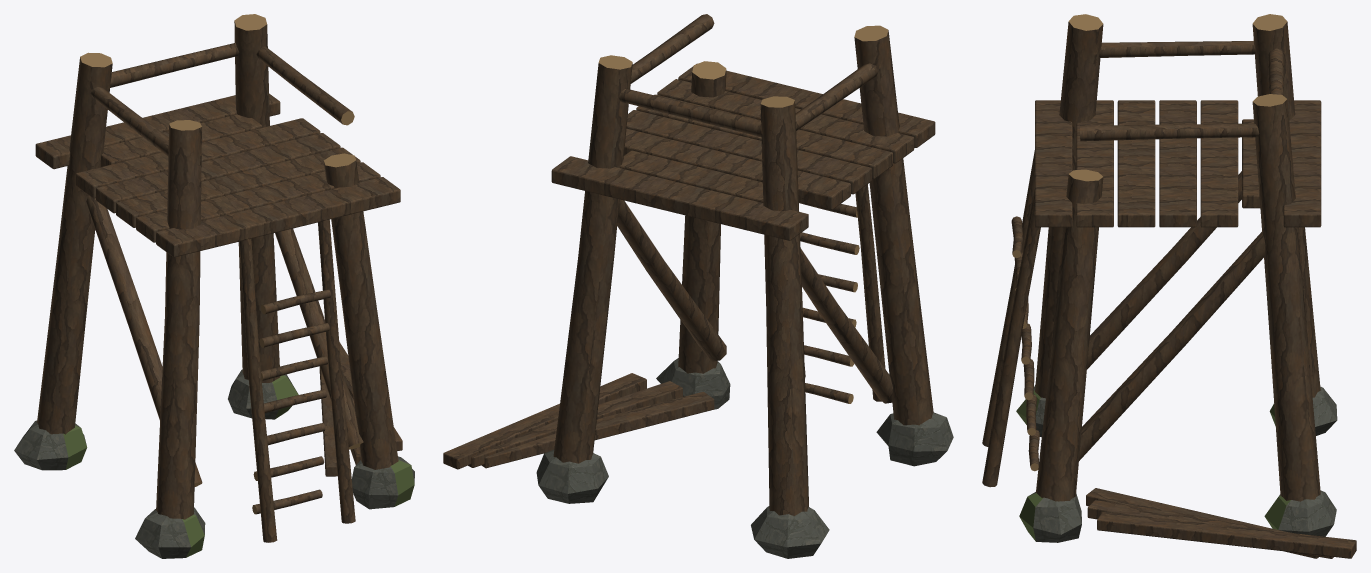
3 views of the same model, side by side, from view 1: azimuth 30°, elevation 25°; view 2: azimuth 150°, elevation 25°; view 3: azimuth 270°, elevation 25° (orthographic). The views are drawn at different scales.
Visible parts, largest first — view 1: Splayed lookout support; view 2: Splayed lookout support; view 3: Splayed lookout support.
Boxes of the visible parts, x1=… form: Splayed lookout support: x1=14, y1=14, x2=414, y2=558; Splayed lookout support: x1=443, y1=14, x2=953, y2=558; Splayed lookout support: x1=982, y1=14, x2=1356, y2=558.
Size of the model in its own units: 5.4 by 6.15 by 4.97.
4 materials, 2 textured.
